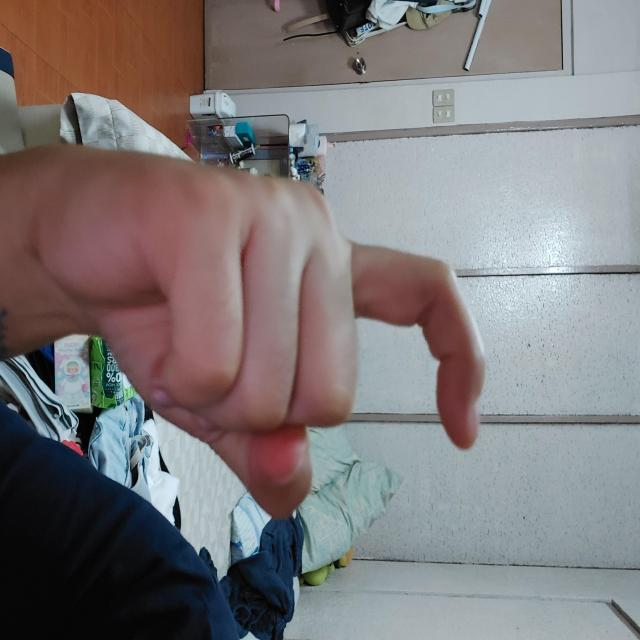X: (140, 154, 519, 613)
